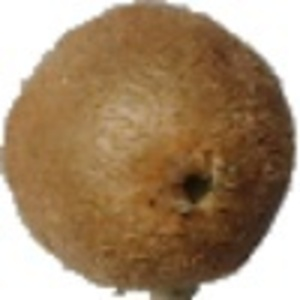kiwi: (1, 1, 299, 300)
